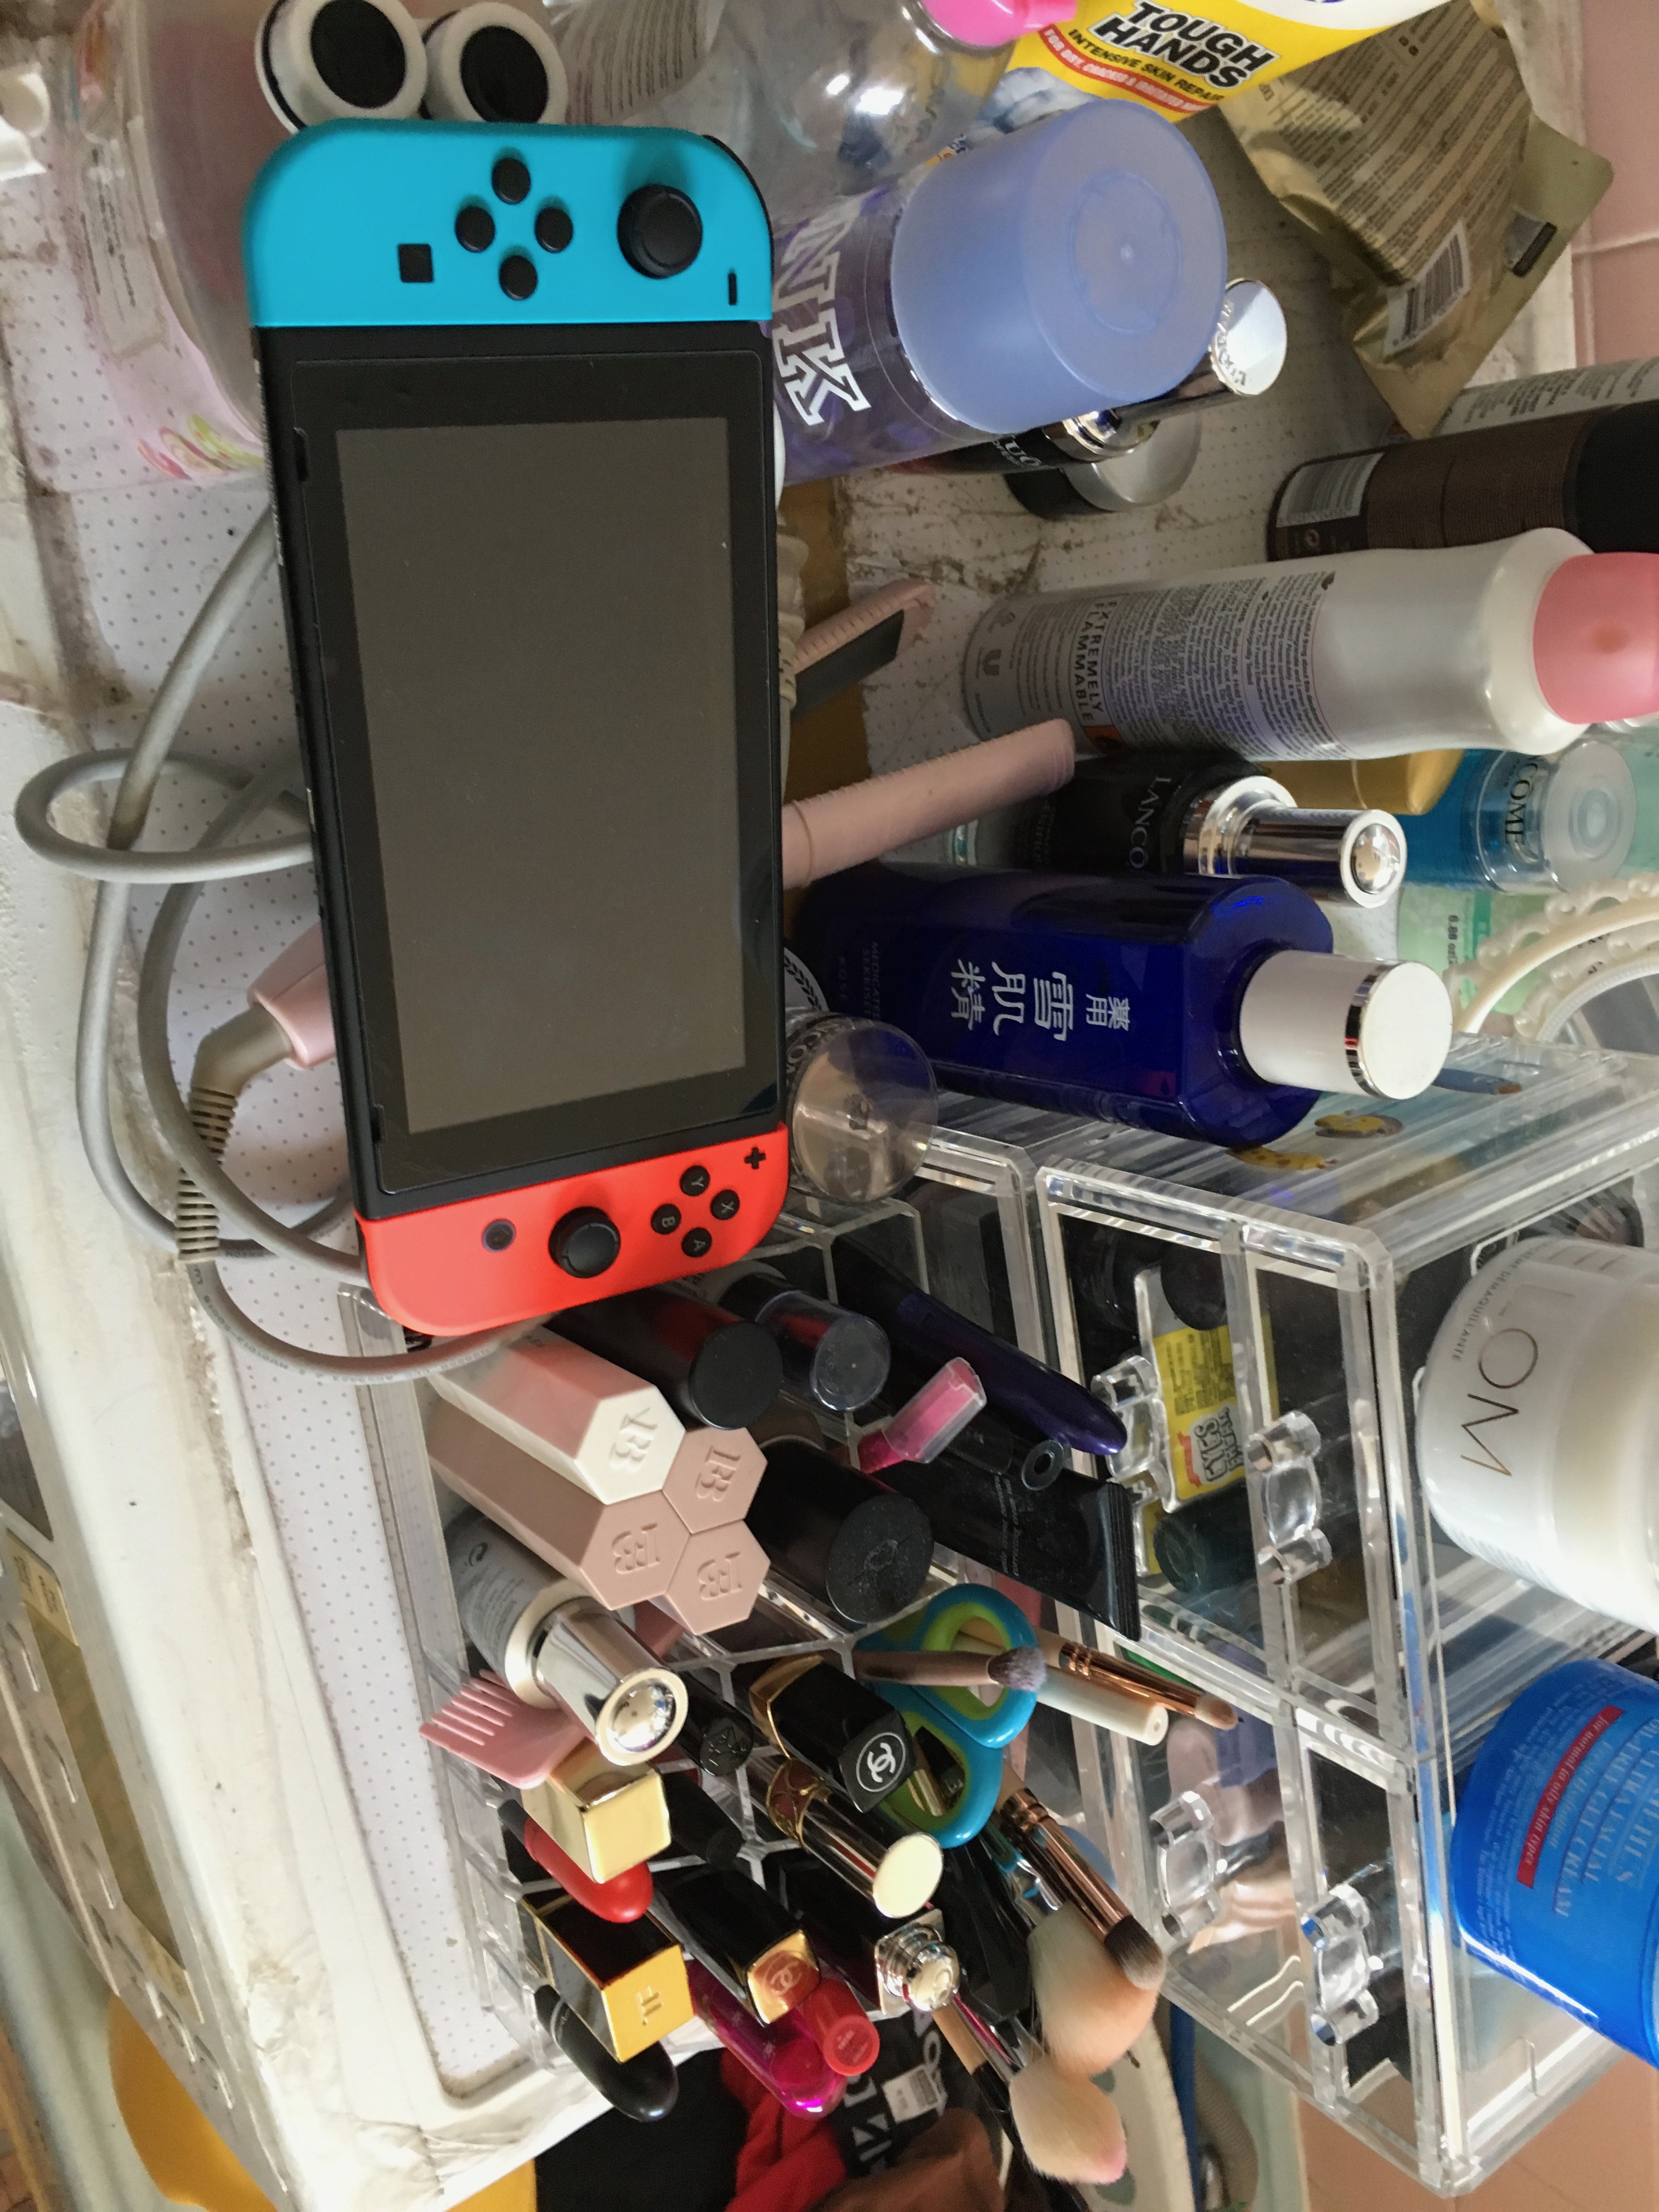NintendoSwitch: (227, 117, 796, 1348)
